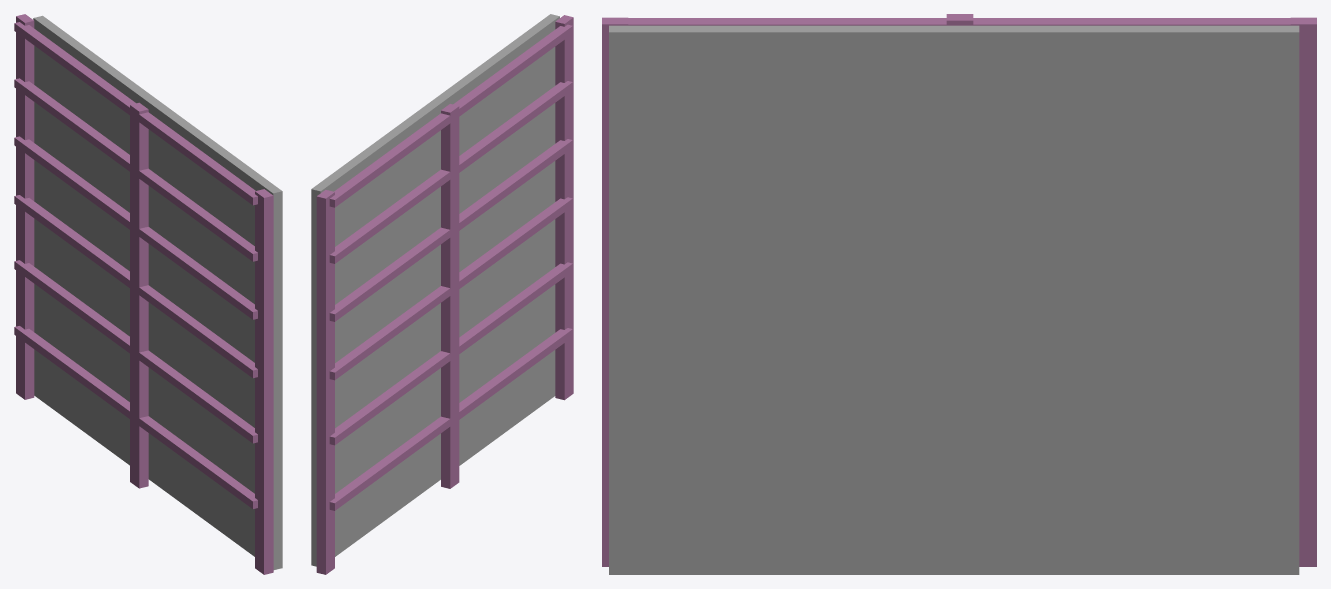
The model's file is door.fbx.
3 views of the same model, side by side, from view 1: azimuth 30°, elevation 25°; view 2: azimuth 150°, elevation 25°; view 3: azimuth 270°, elevation 25° (orthographic). The views are drawn at different scales.
Parts seen in each view (by area): view 1: pCube141, pCube145; view 2: pCube141, pCube145; view 3: pCube141, pCube145.
Part boxes in pixels (left/top/right/bottom): pCube141: left=33, top=15, right=282, bottom=569; pCube145: left=14, top=14, right=273, bottom=574; pCube141: left=311, top=14, right=559, bottom=566; pCube145: left=316, top=15, right=573, bottom=574; pCube141: left=609, top=25, right=1299, bottom=574; pCube145: left=602, top=14, right=1316, bottom=566.
Bounding box in the file's own units: 0.6627 × 9.17 × 10.94.
